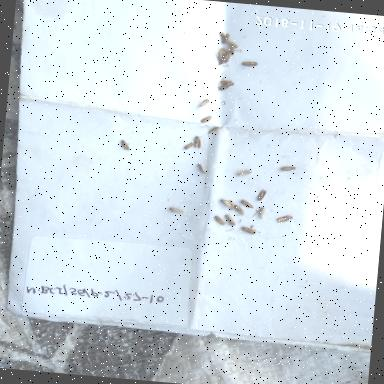pbw: (217, 28, 236, 47), (238, 198, 258, 213), (117, 138, 135, 154), (208, 212, 226, 228), (190, 136, 208, 152), (195, 96, 212, 111), (207, 124, 224, 138), (216, 51, 230, 68), (240, 224, 258, 237), (214, 82, 233, 94), (275, 214, 294, 226), (194, 162, 210, 176), (255, 205, 269, 221), (184, 136, 198, 152), (222, 213, 238, 227), (212, 47, 225, 63), (167, 205, 187, 215), (240, 60, 260, 70), (214, 79, 236, 88), (235, 168, 253, 179), (231, 204, 246, 217), (255, 188, 268, 203), (200, 114, 216, 126), (278, 164, 297, 173), (219, 198, 236, 208), (226, 40, 240, 52), (227, 46, 237, 58), (223, 50, 231, 65), (227, 200, 237, 212)
